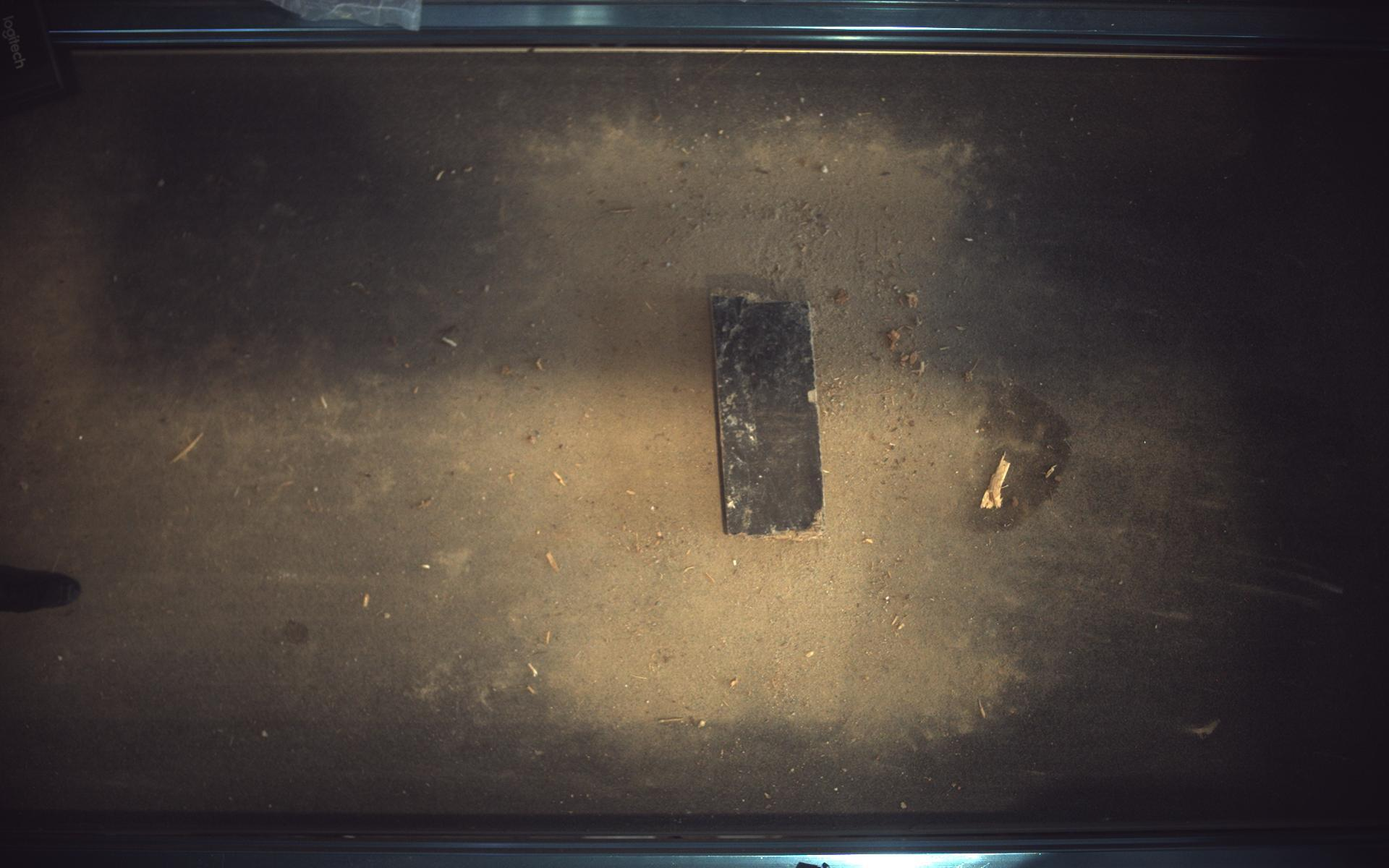wood: (712, 293, 824, 535)
